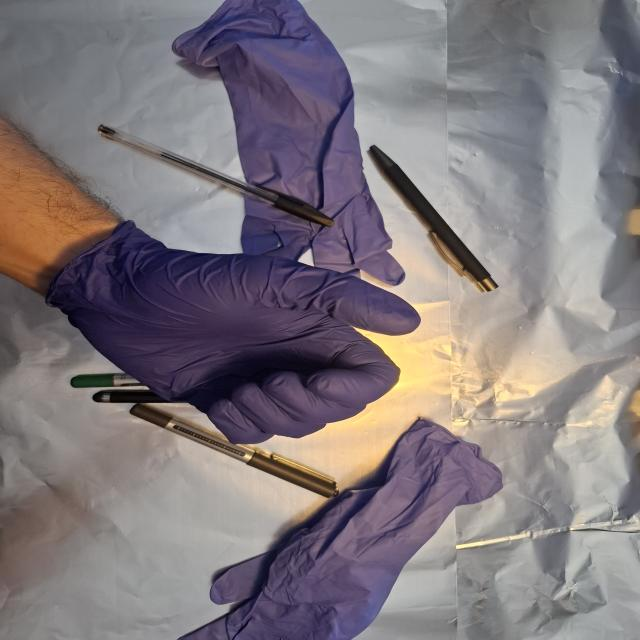glove_on: (47, 226, 425, 449)
